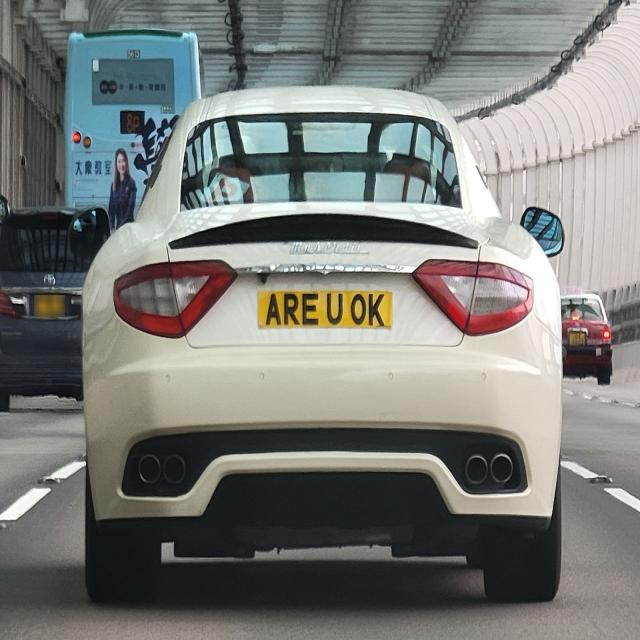Invalid: (252, 285, 400, 336)
